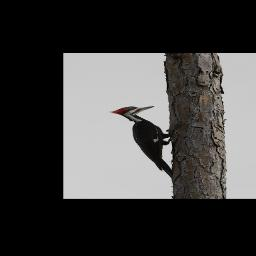Woodpecker: (109, 106, 172, 180)
